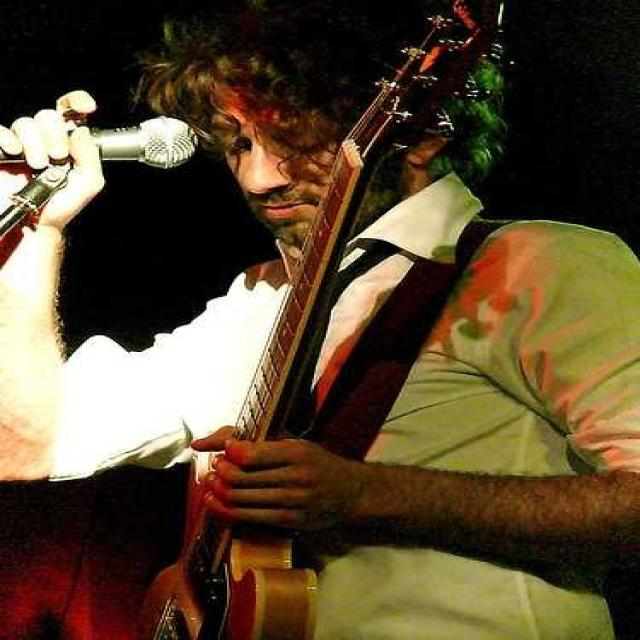microphone: (9, 102, 223, 169)
